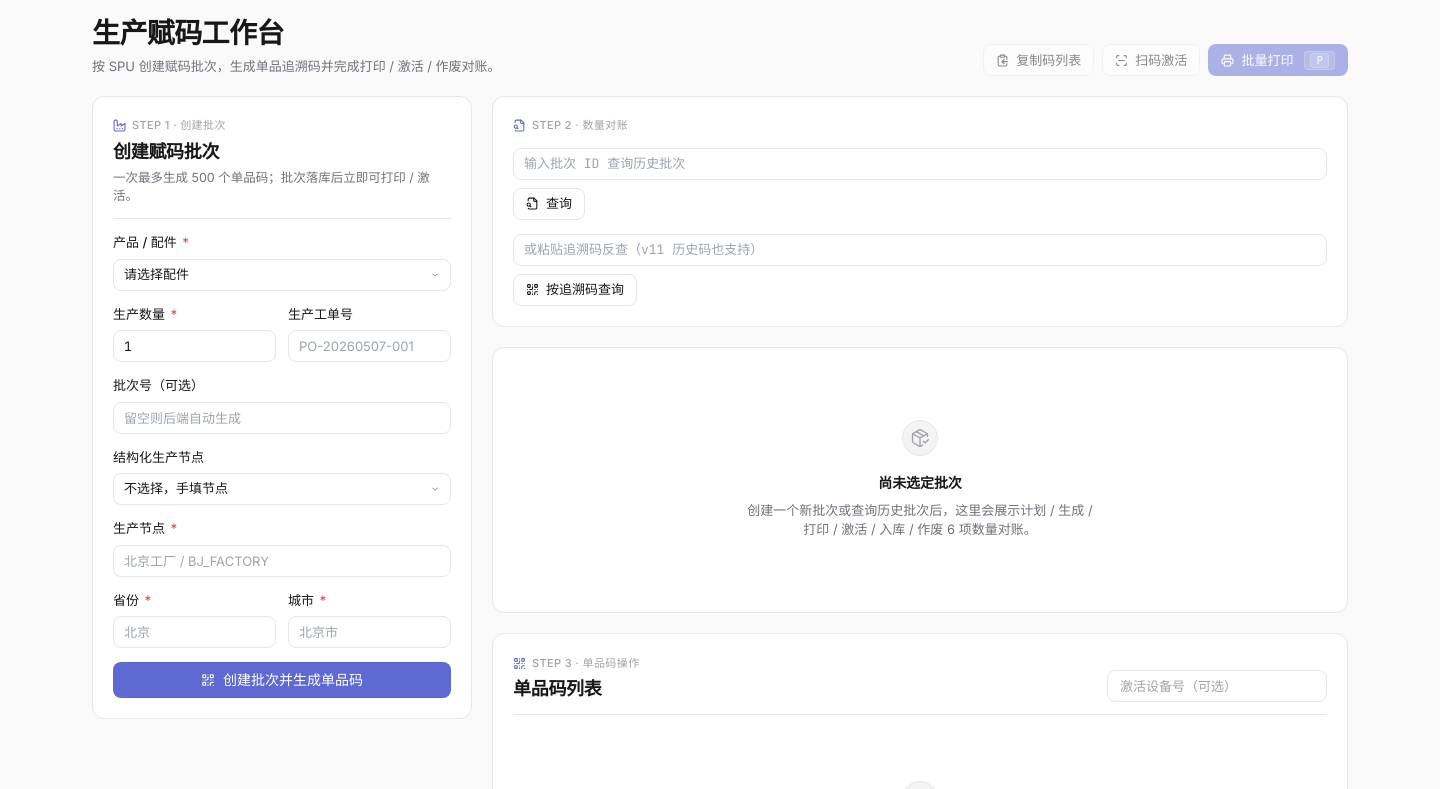
it: TraceAssignmentWorkbench (Linear shell) › renders dense table with status pill, print count and 4 action buttons per row
This screenshot has width=1440, height=789.
Type "9" into the number field with test id "assignment-lookup-input".
click(920, 164); type("9")  # box top-left (513, 148), bottom-right (1327, 180)
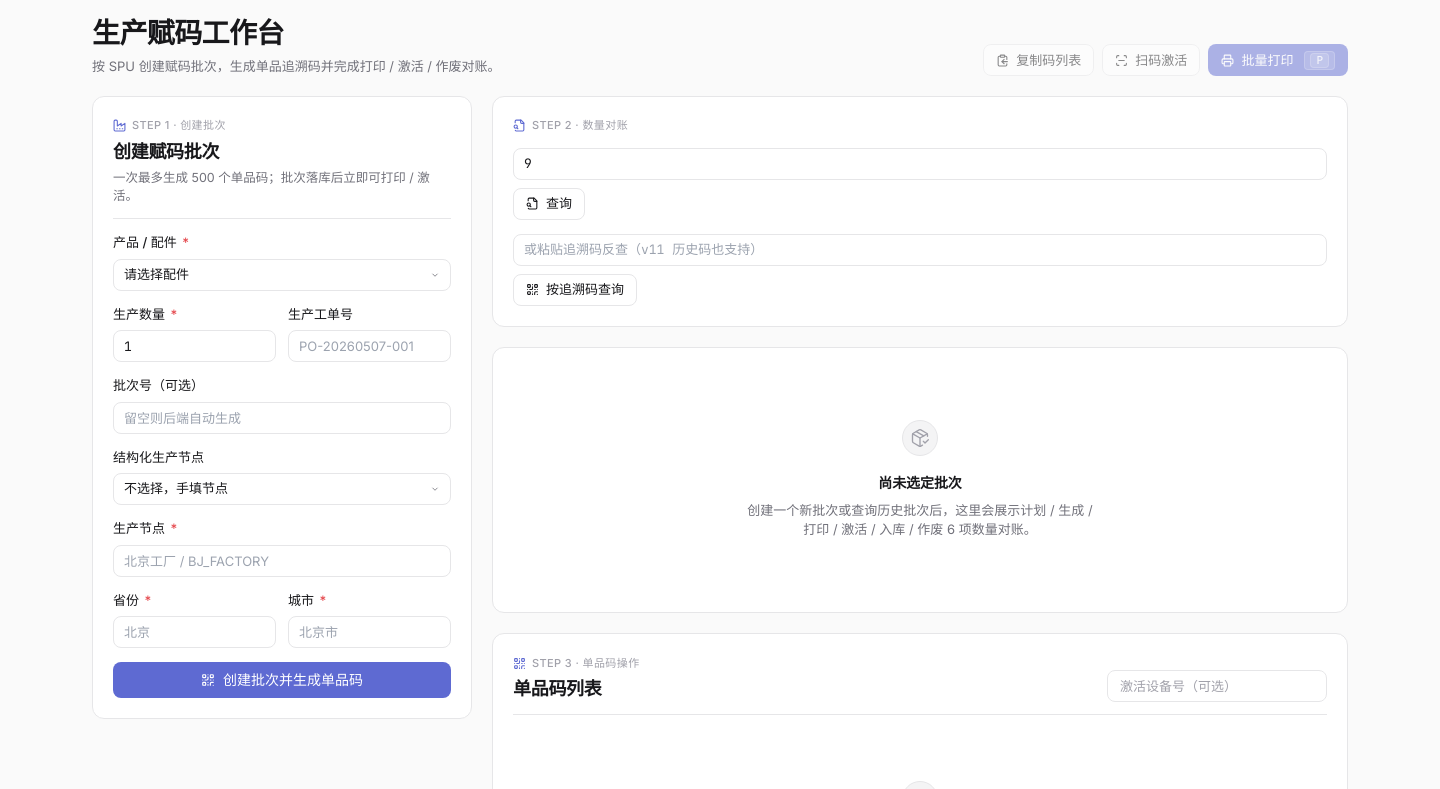
Click the button with test id "assignment-lookup-submit".
click(549, 204)  # box top-left (513, 188), bottom-right (585, 220)
(page scrolled)
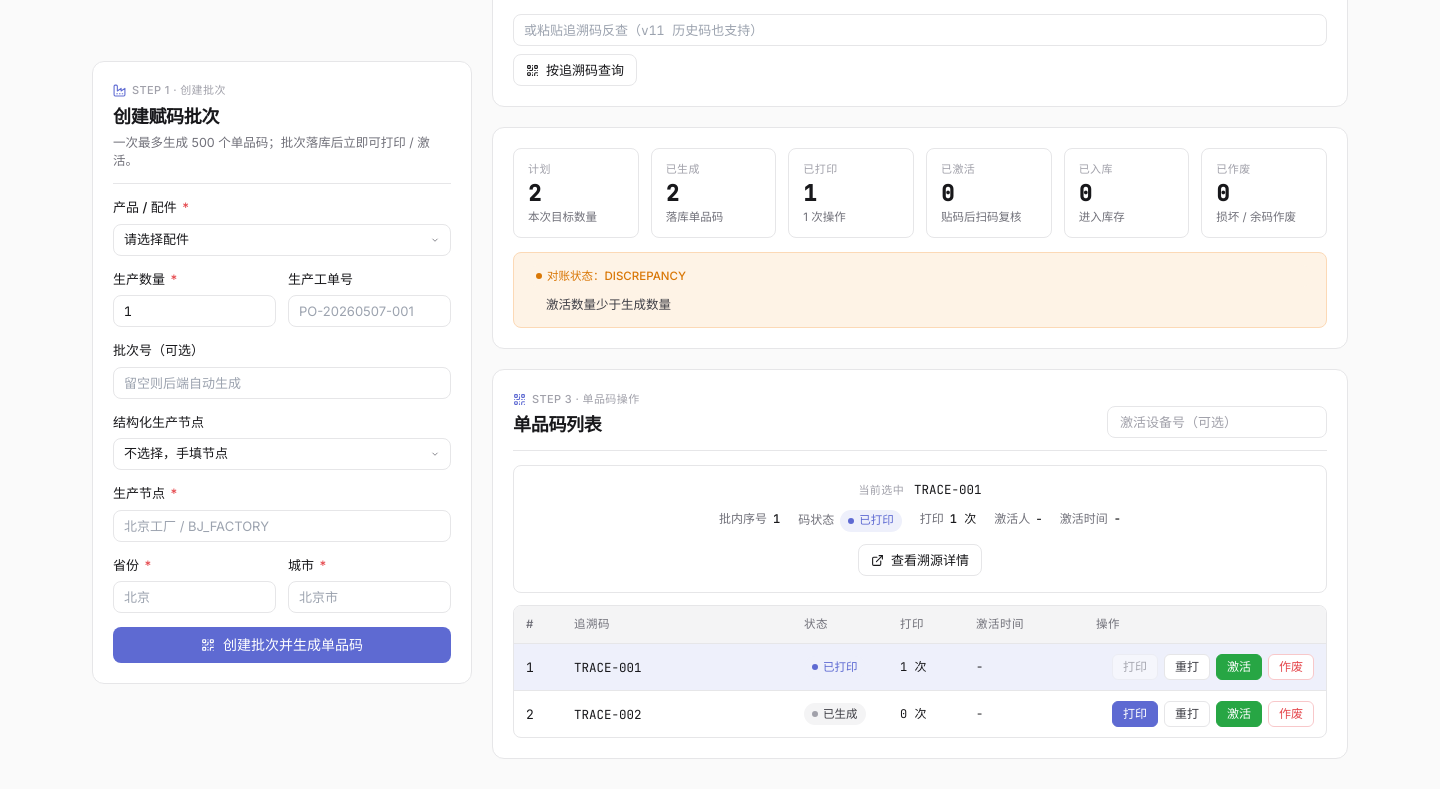
Expected: the row with test id "assignment-code-row-TRACE-001" is shown, top-left (514, 644), bottom-right (1326, 691)
Expected: the row with test id "assignment-code-row-TRACE-001" shows "TRACE-001", top-left (574, 659), bottom-right (642, 676)
Expected: the row with test id "assignment-code-row-TRACE-001" shows "已打印", top-left (823, 660), bottom-right (858, 674)
